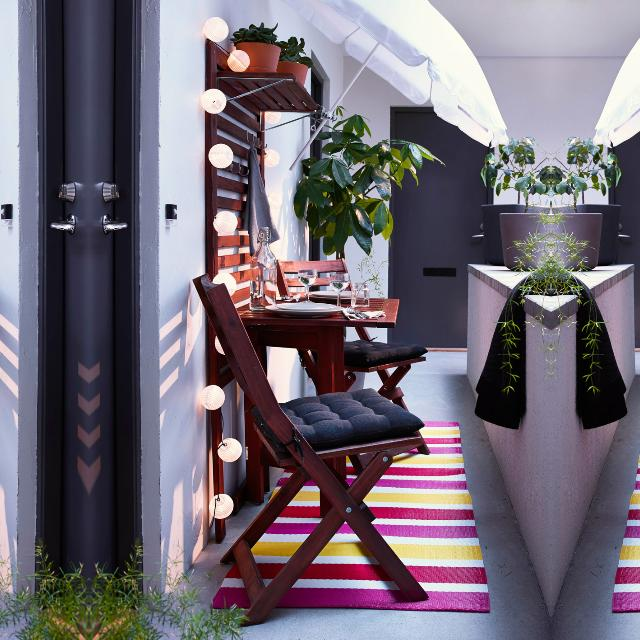chair: (193, 275, 429, 624)
plant: (480, 138, 551, 269), (551, 138, 621, 269)
rug: (278, 421, 490, 612), (252, 481, 319, 582)
table: (237, 299, 399, 394)
